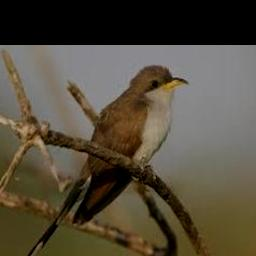Cuckoo: (19, 65, 188, 256)
